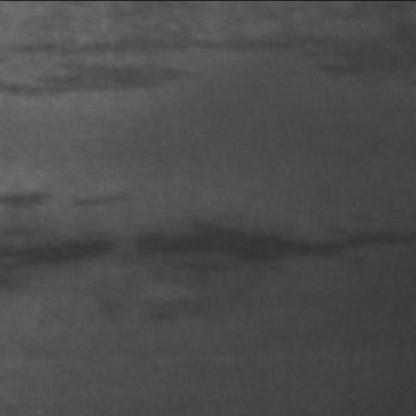inclusion: (2, 219, 406, 294), (0, 20, 306, 98), (0, 179, 135, 218)
